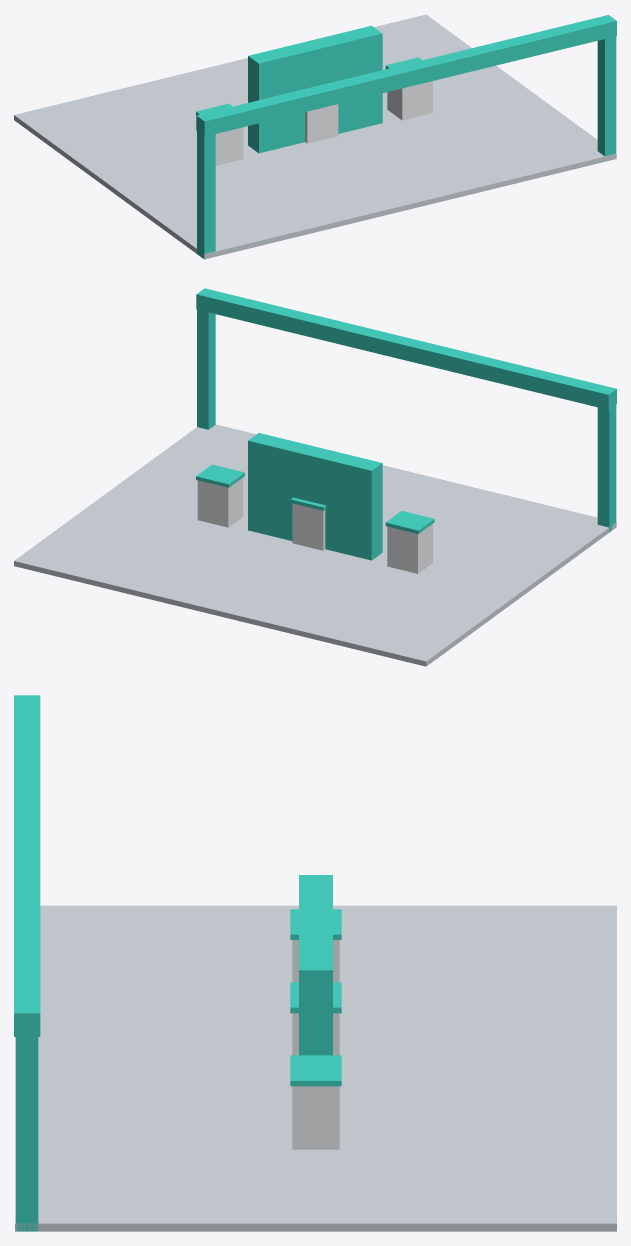
The picture shows the model from 3 angles, top to bottom: view 1: azimuth 30°, elevation 25°; view 2: azimuth 150°, elevation 25°; view 3: azimuth 270°, elevation 25°; orthographic projection. The views are drawn at different scales.
Visible parts, largest first — view 1: Exhibition Booth Concept; view 2: Exhibition Booth Concept; view 3: Exhibition Booth Concept.
Boxes of the visible parts, x1,y1,x2,y2 form: Exhibition Booth Concept: (14, 14, 616, 259); Exhibition Booth Concept: (14, 288, 616, 666); Exhibition Booth Concept: (14, 695, 616, 1231).
Size of the model in its own units: 10 by 3.2 by 8.01.
